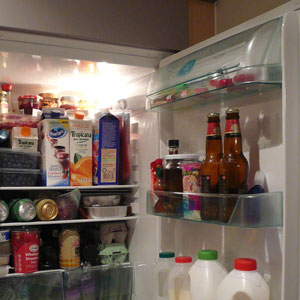milk: (154, 251, 270, 299)
